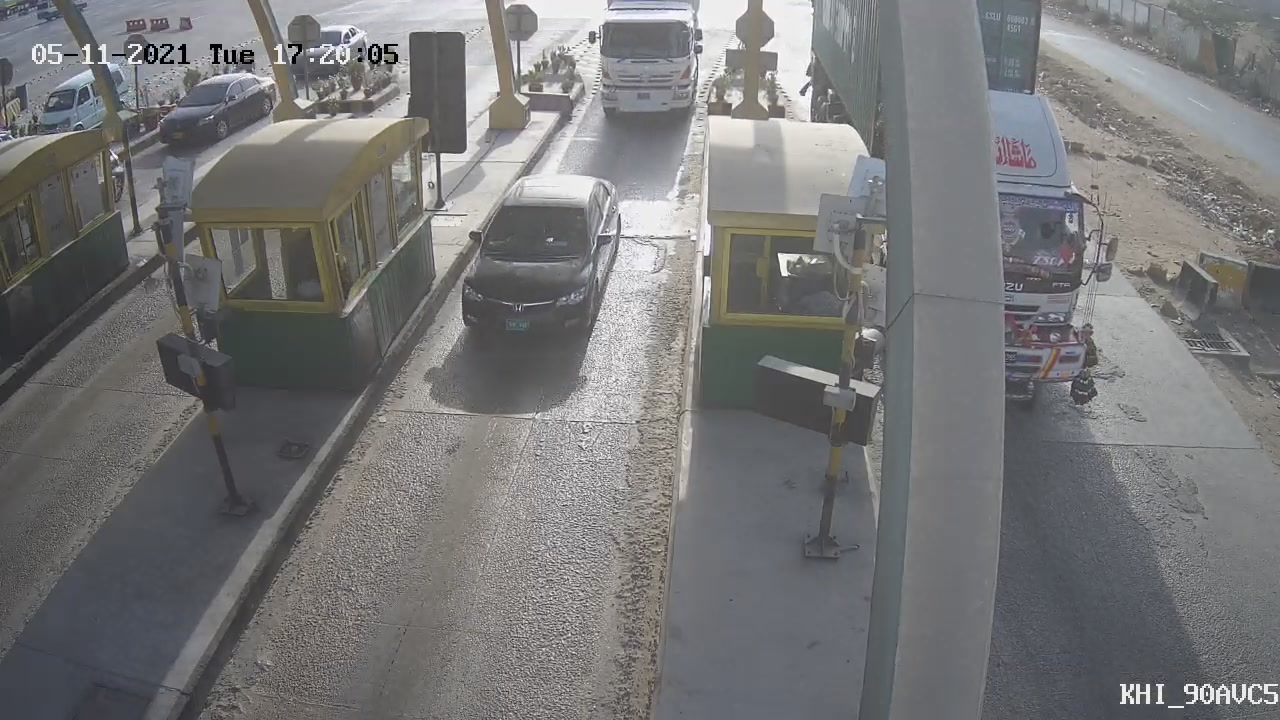F1: (431, 153, 642, 377)
